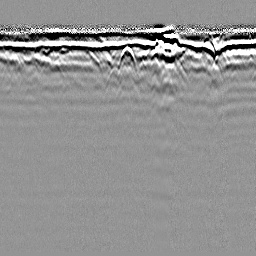cavity: (117, 43, 136, 70)
